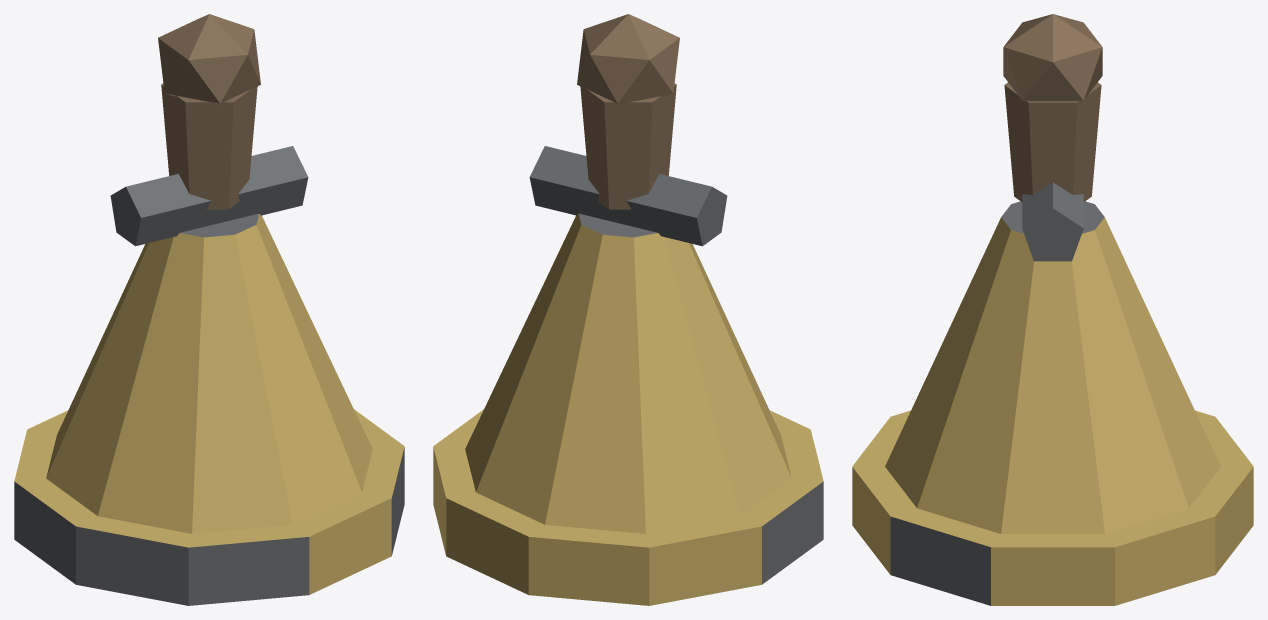
Rendered from judge_bell.glb.
3 renders of one model, left to right at view 1: azimuth 30°, elevation 25°; view 2: azimuth 150°, elevation 25°; view 3: azimuth 270°, elevation 25°, orthographic.
Parts seen in each view (by area): view 1: judge_bell; view 2: judge_bell; view 3: judge_bell.
Part boxes in pixels (x1,y1,x2,y2): judge_bell: [14, 14, 404, 605]; judge_bell: [433, 14, 823, 605]; judge_bell: [852, 14, 1253, 605].
Bounding box in the file's own units: 0.1179 × 0.1742 × 0.124.
